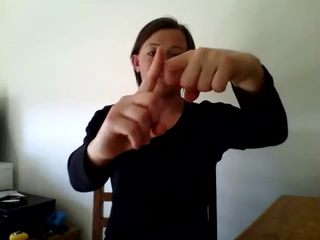K: (94, 40, 245, 156)
